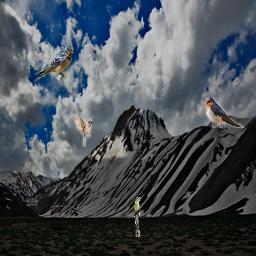Cuckoo: (134, 197, 142, 237)
Sparrow: (75, 110, 92, 147)
Swallow: (34, 46, 74, 82), (205, 97, 244, 128)
